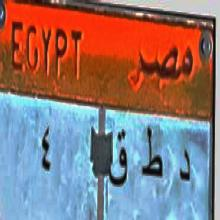4: (39, 119, 55, 184)
Taa: (139, 120, 163, 194)
daal: (173, 133, 193, 199)
qaaf: (108, 130, 129, 194)
